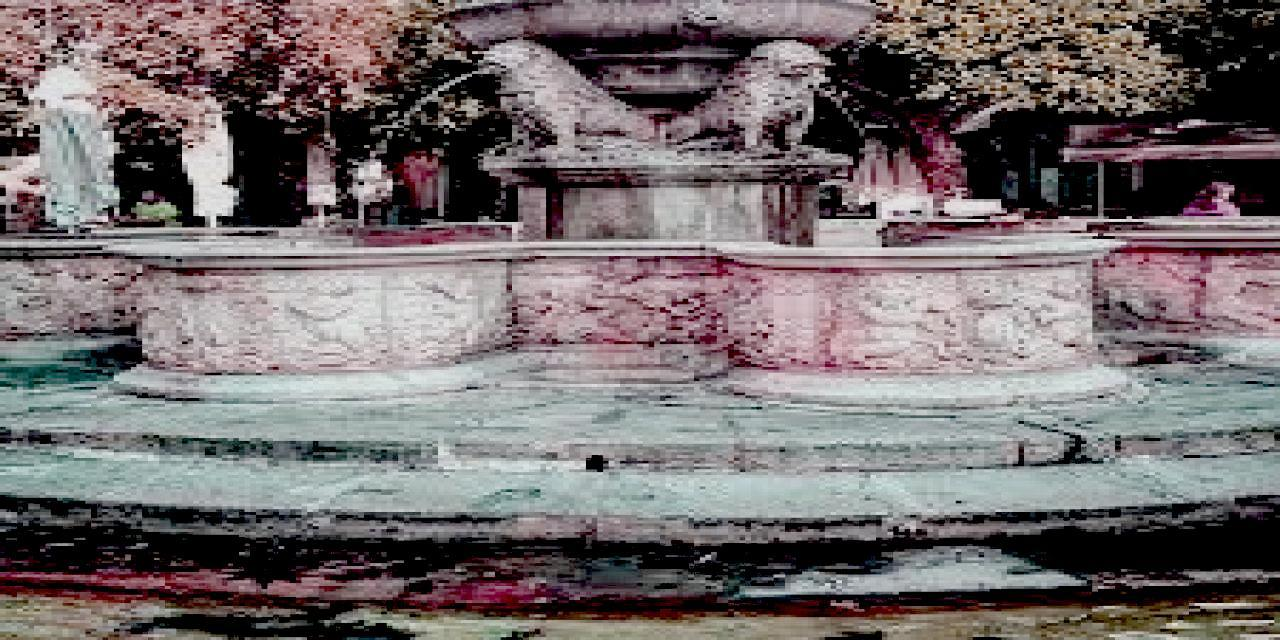Liontaria: (16, 7, 1278, 409)
